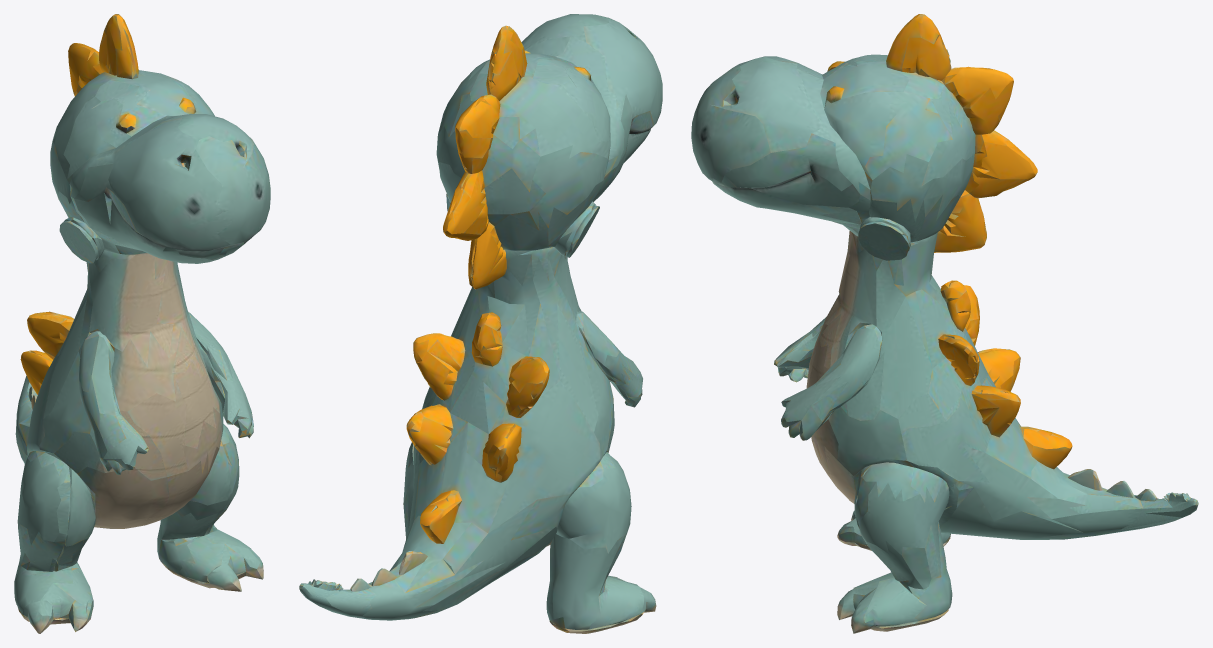
The model's file is dino.glb.
3 views of the same model, side by side, from view 1: azimuth 30°, elevation 25°; view 2: azimuth 150°, elevation 25°; view 3: azimuth 270°, elevation 25° (orthographic). The views are drawn at different scales.
Visible parts, largest first — view 1: mesh_node; view 2: mesh_node; view 3: mesh_node.
Boxes of the visible parts, box(x1,y1,x2,y2) form: mesh_node: box(14, 14, 270, 633); mesh_node: box(299, 14, 662, 633); mesh_node: box(691, 14, 1198, 633).
Bounding box in the file's own units: 0.8048 × 1.9 × 1.54.
Materials: 1 (1 with a texture image).
